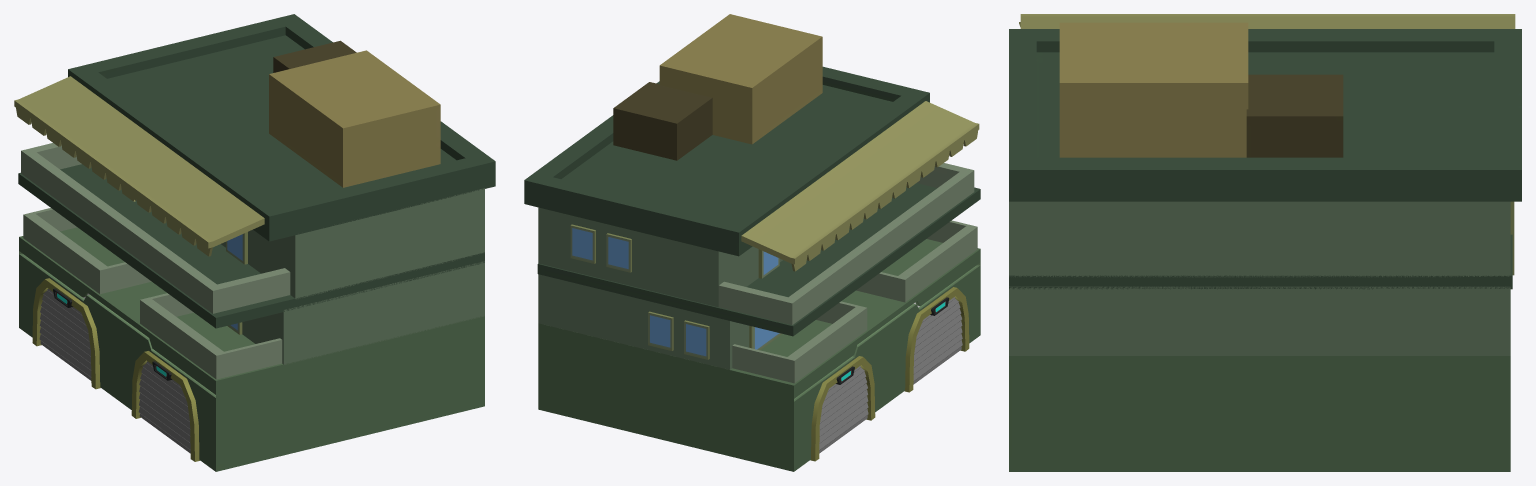
The model's file is NorthWest_House_03.fbx.
The picture shows the model from 3 angles, left to right: view 1: azimuth 30°, elevation 25°; view 2: azimuth 150°, elevation 25°; view 3: azimuth 270°, elevation 25°; orthographic projection. The views are drawn at different scales.
Parts seen in each view (by area): view 1: NorthWest_House_03; view 2: NorthWest_House_03; view 3: NorthWest_House_03.
Part boxes in pixels (x1,y1,x2,y2): NorthWest_House_03: [14, 14, 495, 471]; NorthWest_House_03: [524, 14, 980, 471]; NorthWest_House_03: [1009, 14, 1521, 471].
Size of the model in its own units: 23.41 by 23 by 28.5.
Materials: 2 (2 with a texture image).
